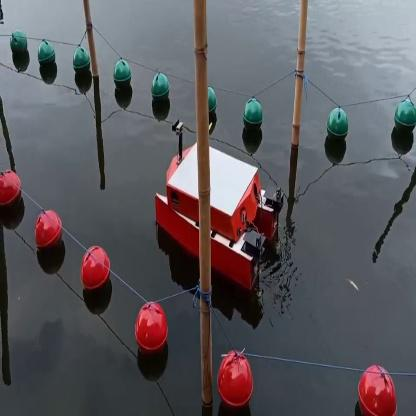green_buoy: (326, 106, 348, 146), (149, 68, 169, 106), (394, 101, 413, 139), (113, 59, 132, 91), (36, 38, 54, 70), (73, 46, 91, 78), (244, 100, 262, 132), (12, 28, 28, 58), (209, 88, 217, 120)
red_buoy: (216, 351, 253, 406), (136, 300, 167, 360), (360, 362, 394, 415), (80, 246, 113, 294), (34, 207, 63, 256), (0, 168, 22, 218)
